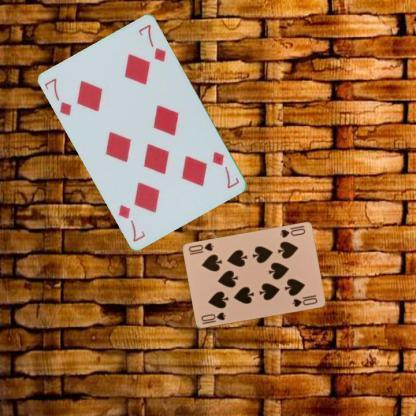10s: (198, 310, 227, 326), (277, 225, 306, 240)
7d: (42, 75, 74, 119), (209, 148, 241, 190)
